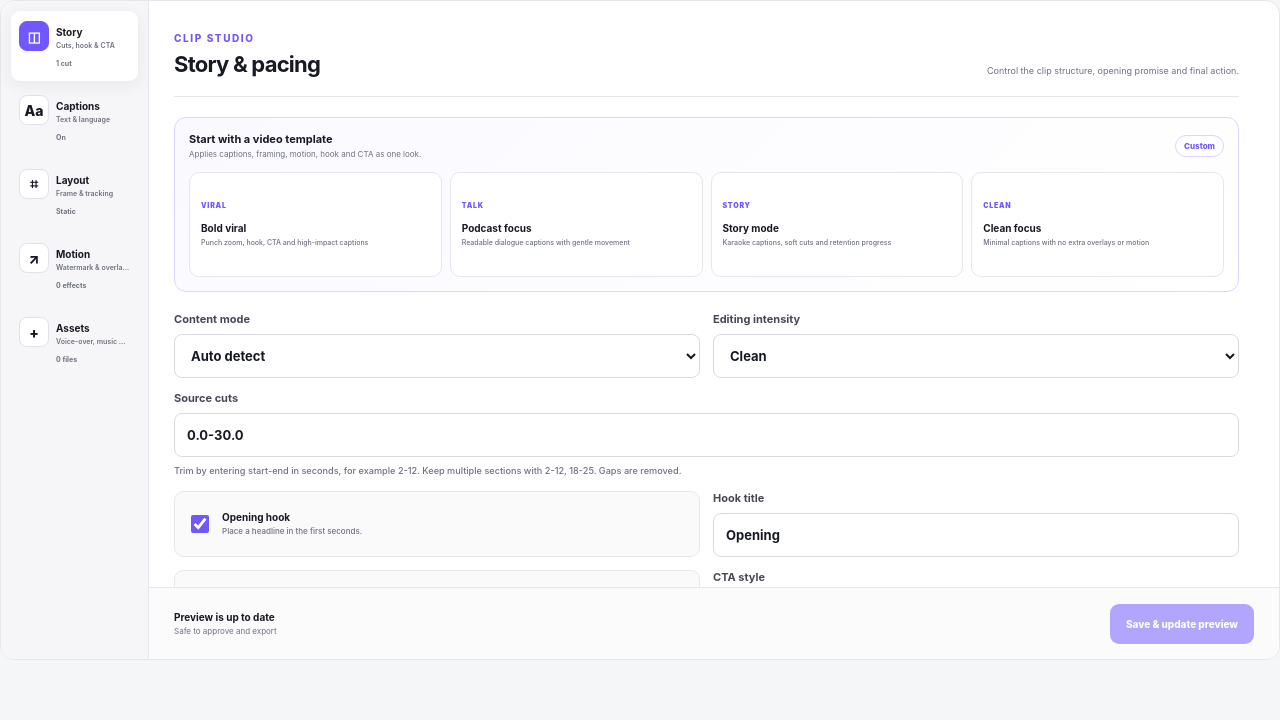
it: clip style editor › previews a watermark and exposes voice-over and original audio controls
Click the button "↗ Motion Watermark & overlays 0 effects".
click(74, 268)  # box [11,233,138,303]
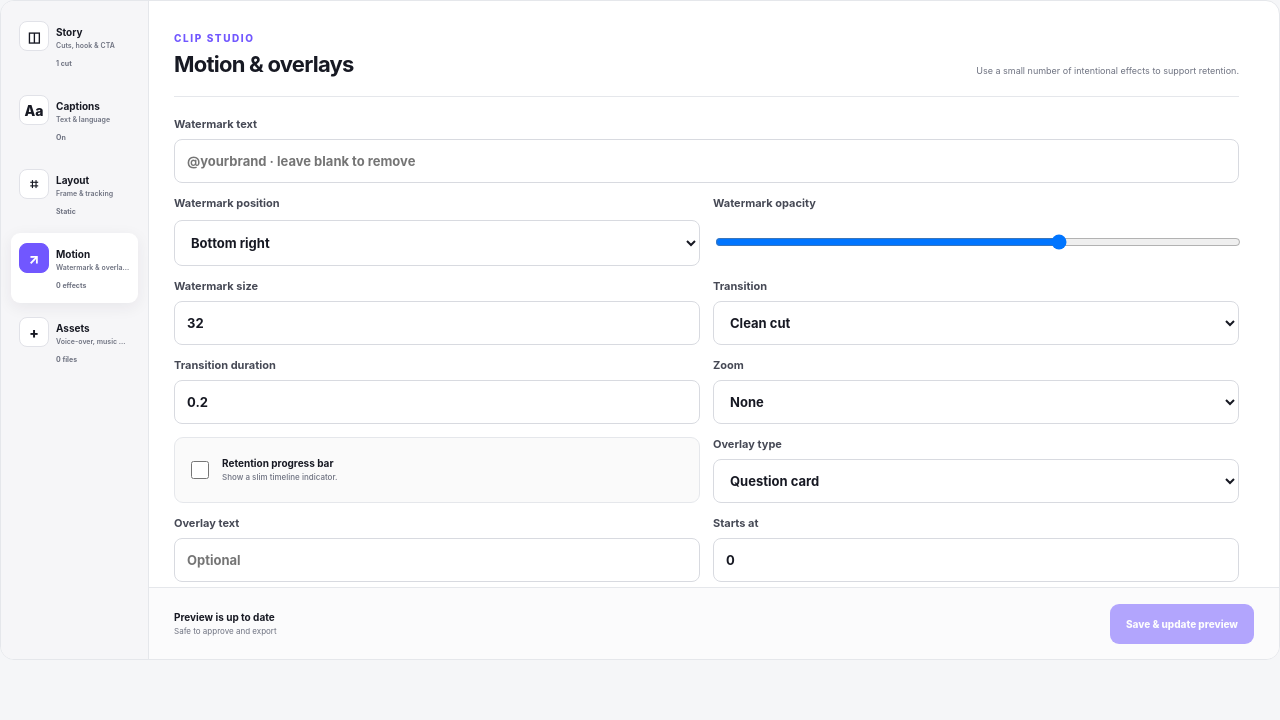
Type "@MyBrand" into the field labelled "Watermark text".
click(706, 161); type("@MyBrand")  # box [174,139,1239,183]
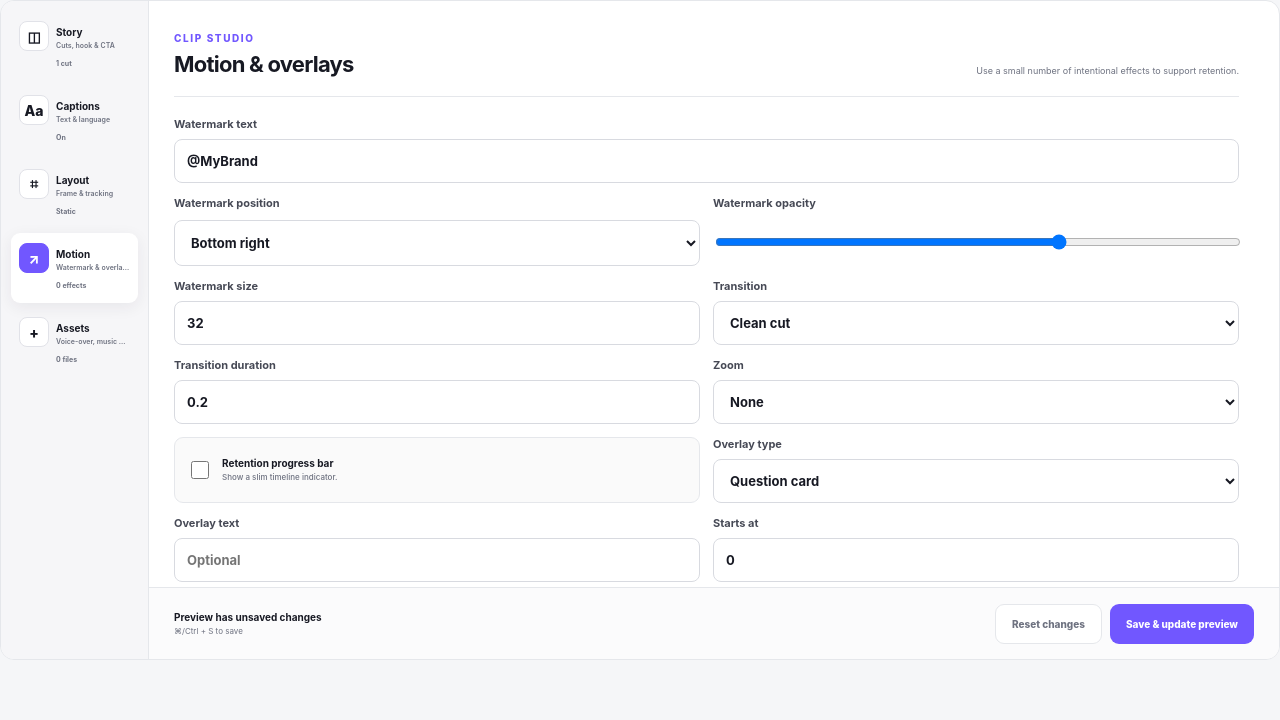
Select "Top left" in the dropdown labelled "Watermark position" at x=437, y=243, box [174,220,700,266]
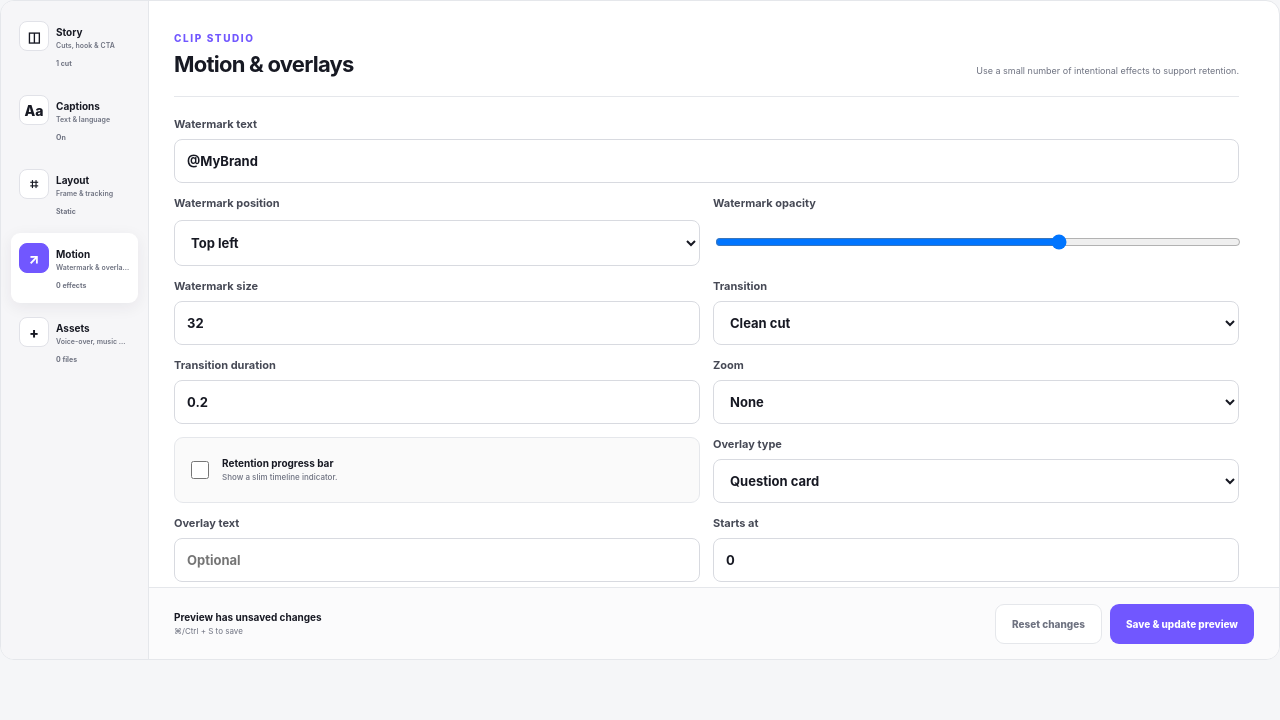
Click the button "⌗ Layout Frame & tracking Static".
click(74, 194)  # box [11,159,138,229]
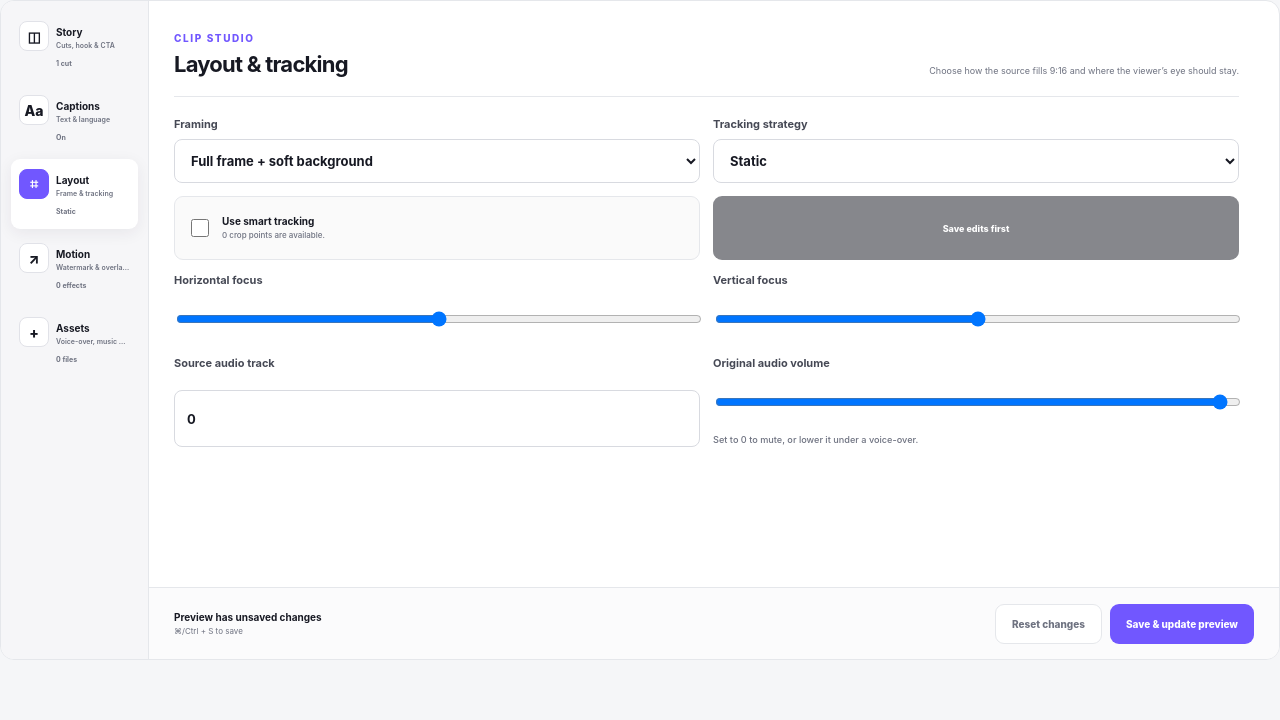
Expected: the slider labelled "Original audio volume" holds "1", [715,380,1241,424]
Click the button "+ Assets Voice-over, music & video 0 files".
click(74, 342)  # box [11,307,138,377]
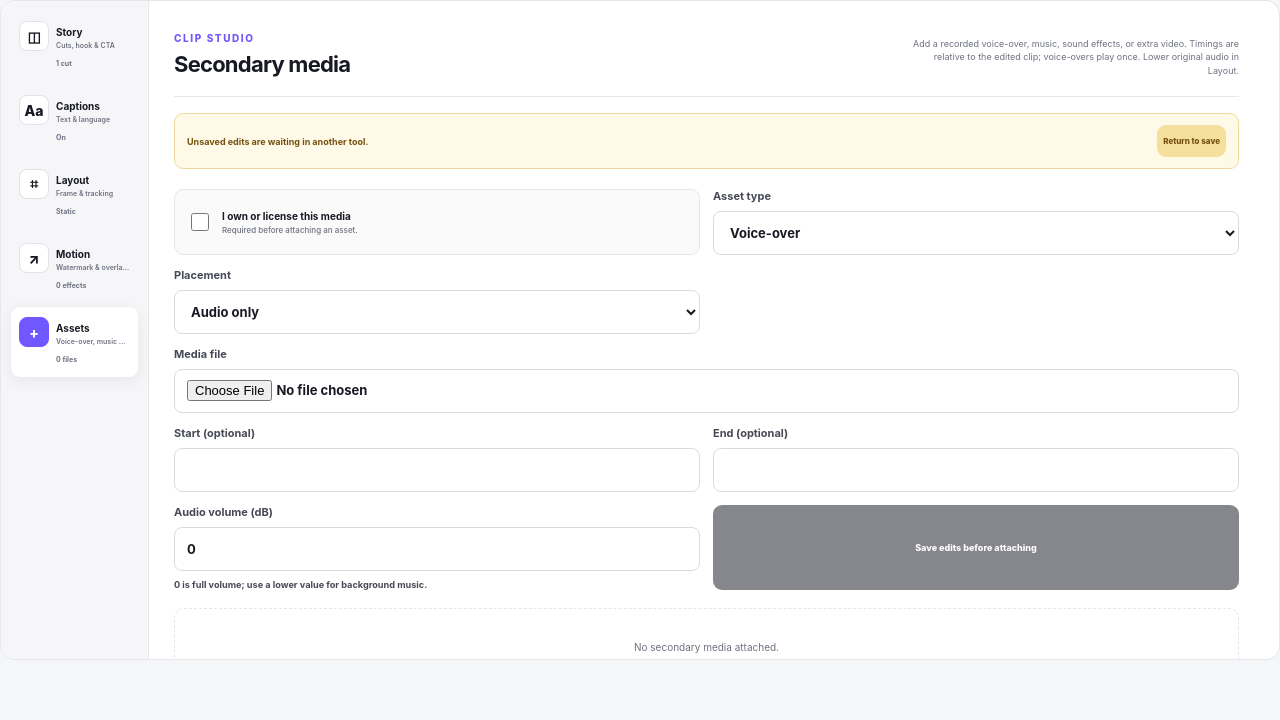
Expected: the dropdown labelled "Asset type" shows "Voice-over", [713,211,1239,255]
Expected: the dropdown labelled "Placement" shows "Audio only", [174,290,700,334]
Expected: the number field labelled "Audio volume" holds "0", [174,527,700,571]
